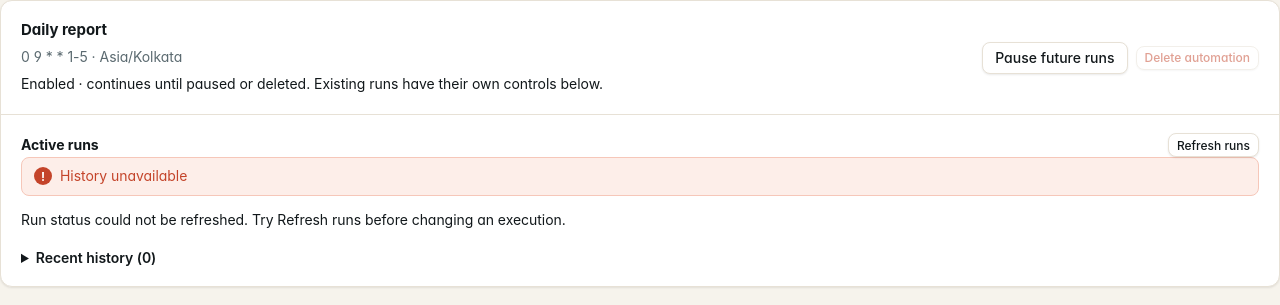
Test case: recurring automation management › does not present a failed history request as an empty or safely deletable automation
Check: the message "! History unavailable" is shown, box [21,157,1259,196]
Check: the text "No active runs." is not shown
Click the button "Refresh runs": (1213, 145) [1168,133,1259,157]
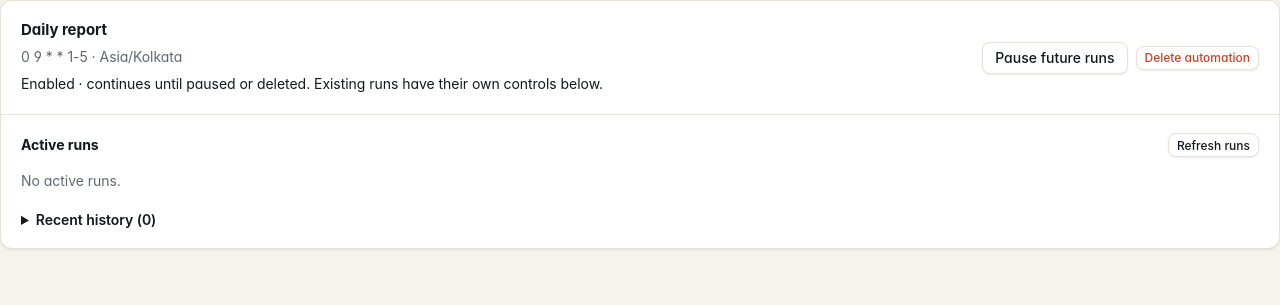
Check: the text "No active runs." is shown, box [21,172,121,189]
